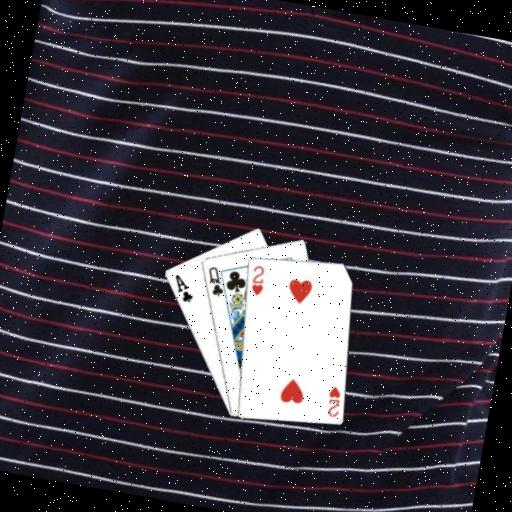2H: (245, 261, 268, 298), (321, 382, 344, 419)
AC: (167, 270, 197, 304)
QC: (201, 262, 229, 298)
